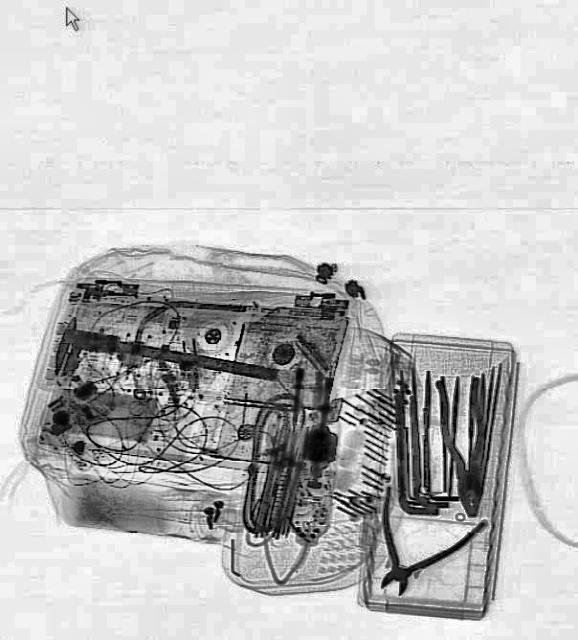Pliers: (346, 478, 484, 616), (435, 374, 497, 518)
